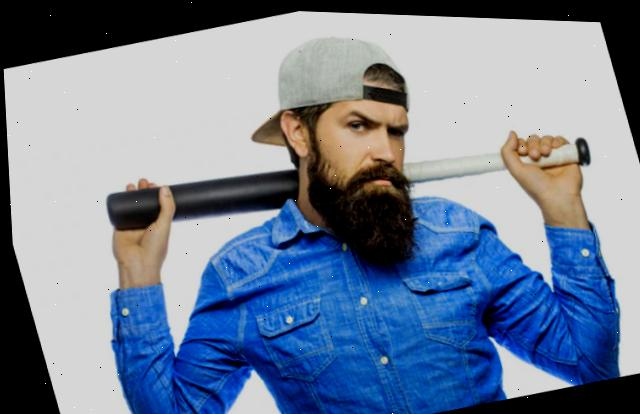baseball bat: (95, 76, 608, 271)
